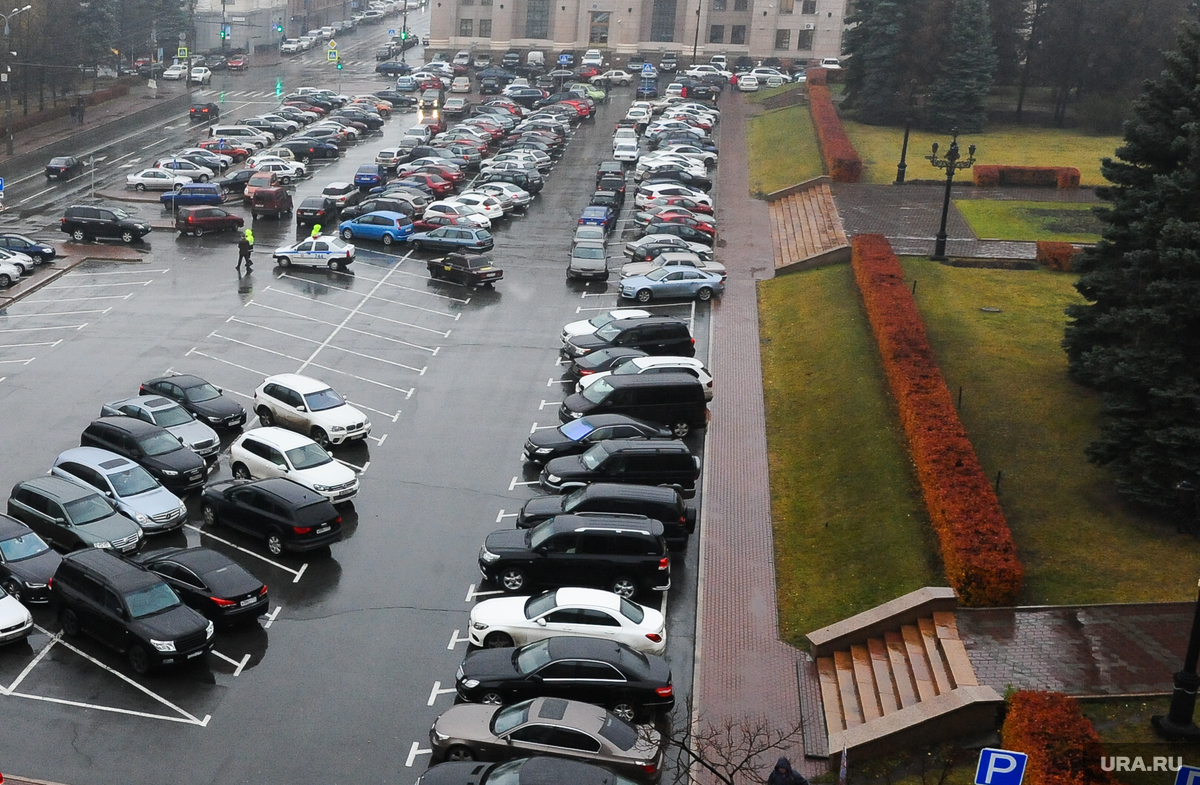Car: (49, 547, 217, 674), (430, 698, 662, 785), (456, 637, 675, 724), (478, 512, 671, 601), (468, 587, 666, 658), (516, 483, 696, 551), (51, 447, 190, 535), (201, 477, 343, 556), (6, 477, 147, 556), (133, 548, 269, 627), (559, 371, 711, 438), (230, 426, 359, 504), (81, 415, 210, 493), (538, 440, 700, 500), (253, 374, 372, 447), (100, 395, 221, 460), (523, 413, 673, 464), (575, 356, 714, 403), (414, 757, 643, 785), (139, 375, 247, 431), (562, 317, 695, 360), (0, 514, 61, 603), (618, 266, 723, 303), (60, 205, 152, 244), (559, 308, 657, 344), (619, 252, 727, 282), (273, 235, 355, 271), (339, 210, 415, 246), (427, 250, 503, 286), (567, 347, 649, 378), (406, 225, 494, 253), (623, 233, 714, 260), (175, 205, 244, 236), (0, 584, 33, 645), (422, 201, 491, 230), (634, 184, 712, 208), (159, 183, 228, 210), (0, 233, 56, 266), (633, 205, 717, 227), (339, 198, 415, 222), (641, 168, 713, 193), (641, 223, 713, 248), (443, 188, 513, 213), (565, 242, 608, 281), (649, 213, 715, 238), (408, 145, 469, 172), (125, 167, 193, 191), (632, 243, 712, 263), (360, 194, 429, 217), (386, 173, 454, 196), (634, 161, 705, 183), (641, 195, 714, 216), (208, 124, 268, 149), (153, 158, 215, 182), (634, 179, 705, 199), (484, 168, 543, 192), (244, 155, 307, 177), (207, 168, 260, 194), (521, 106, 570, 134), (169, 147, 234, 168), (251, 187, 294, 218), (636, 156, 706, 175), (476, 182, 531, 206), (659, 144, 718, 166), (365, 187, 436, 205), (452, 194, 503, 219), (398, 165, 465, 184), (296, 196, 338, 226), (413, 214, 481, 232), (244, 171, 280, 204), (395, 156, 460, 174), (639, 151, 704, 169), (576, 205, 616, 234), (480, 159, 535, 180), (472, 172, 528, 192), (195, 141, 248, 162), (287, 137, 340, 158), (176, 154, 226, 176), (644, 119, 705, 137), (235, 118, 287, 139), (500, 135, 560, 153), (469, 106, 522, 126), (253, 161, 297, 185), (479, 153, 537, 171), (527, 104, 579, 124), (304, 121, 358, 140), (497, 142, 554, 160), (658, 139, 718, 156), (433, 139, 489, 157), (272, 141, 314, 165), (656, 129, 715, 146), (320, 182, 360, 207), (334, 110, 384, 130), (507, 130, 565, 147), (666, 103, 720, 121), (435, 126, 492, 143), (428, 132, 488, 148), (369, 180, 433, 195), (44, 157, 84, 181), (509, 122, 565, 139), (462, 113, 514, 131), (288, 128, 340, 146), (506, 88, 547, 110), (571, 225, 607, 250), (283, 95, 333, 113), (208, 138, 258, 156), (0, 247, 34, 273), (343, 98, 392, 116), (532, 92, 580, 110), (445, 144, 482, 167), (683, 65, 733, 82), (659, 111, 712, 127), (484, 100, 531, 118), (321, 116, 368, 134), (371, 89, 418, 107), (253, 115, 300, 133), (596, 175, 626, 203), (511, 149, 551, 170), (279, 101, 324, 118), (273, 106, 318, 123), (595, 160, 625, 185), (589, 191, 621, 214), (588, 70, 634, 86), (354, 163, 383, 188), (570, 83, 606, 103), (264, 111, 309, 127), (454, 118, 505, 132), (534, 69, 581, 84), (670, 98, 720, 112), (475, 67, 516, 84), (375, 147, 408, 168), (466, 122, 504, 140), (309, 126, 347, 144), (674, 117, 712, 135), (512, 61, 548, 80), (673, 108, 715, 124), (748, 68, 792, 83), (411, 72, 452, 88), (611, 128, 639, 151), (415, 66, 455, 82), (650, 96, 684, 114), (612, 141, 641, 162), (252, 147, 295, 161), (308, 89, 348, 104), (303, 93, 343, 108), (347, 95, 393, 108), (244, 125, 275, 144), (403, 124, 431, 145), (555, 100, 589, 117), (442, 97, 472, 116), (420, 117, 447, 138), (569, 97, 596, 118), (515, 118, 562, 130), (349, 9, 384, 25), (375, 61, 412, 76), (190, 102, 219, 121), (331, 106, 381, 117), (0, 261, 20, 287), (419, 89, 445, 109), (481, 96, 526, 107), (636, 78, 658, 100), (625, 108, 650, 127), (186, 66, 211, 85), (492, 104, 523, 119), (581, 48, 604, 68), (613, 119, 640, 136), (139, 62, 166, 79), (502, 49, 524, 69), (398, 136, 423, 153), (536, 75, 558, 94), (701, 72, 724, 90), (659, 52, 678, 73), (556, 50, 577, 69), (735, 66, 768, 78), (480, 76, 502, 94), (162, 65, 188, 80), (572, 67, 598, 82), (395, 76, 419, 92), (627, 55, 648, 73), (452, 49, 474, 66), (423, 62, 454, 74), (227, 54, 250, 70), (346, 103, 378, 114), (677, 80, 699, 96), (181, 55, 206, 69), (632, 101, 652, 118), (451, 77, 472, 93), (280, 38, 302, 53), (421, 77, 443, 92), (204, 55, 226, 70), (390, 35, 413, 49), (692, 83, 712, 99), (286, 87, 317, 97), (737, 76, 759, 90), (501, 85, 530, 95), (709, 55, 727, 71), (734, 56, 752, 72), (762, 57, 782, 71), (473, 53, 491, 68), (306, 29, 323, 44), (376, 46, 393, 61), (665, 83, 683, 97), (330, 21, 348, 35), (527, 51, 545, 65), (765, 77, 784, 90), (298, 36, 315, 50), (320, 26, 336, 40), (476, 63, 504, 71), (790, 58, 807, 71), (641, 67, 659, 79), (820, 58, 841, 68), (562, 80, 579, 92), (385, 42, 402, 54), (134, 57, 151, 68), (452, 64, 466, 77), (342, 20, 357, 32), (431, 53, 451, 62), (512, 78, 530, 87), (793, 69, 806, 81), (569, 89, 585, 98), (374, 6, 386, 17), (408, 34, 419, 45), (674, 74, 689, 82), (407, 0, 420, 9), (395, 1, 405, 12), (422, 32, 430, 45), (710, 64, 724, 71), (386, 4, 394, 16), (419, 0, 429, 6), (798, 77, 806, 83)
